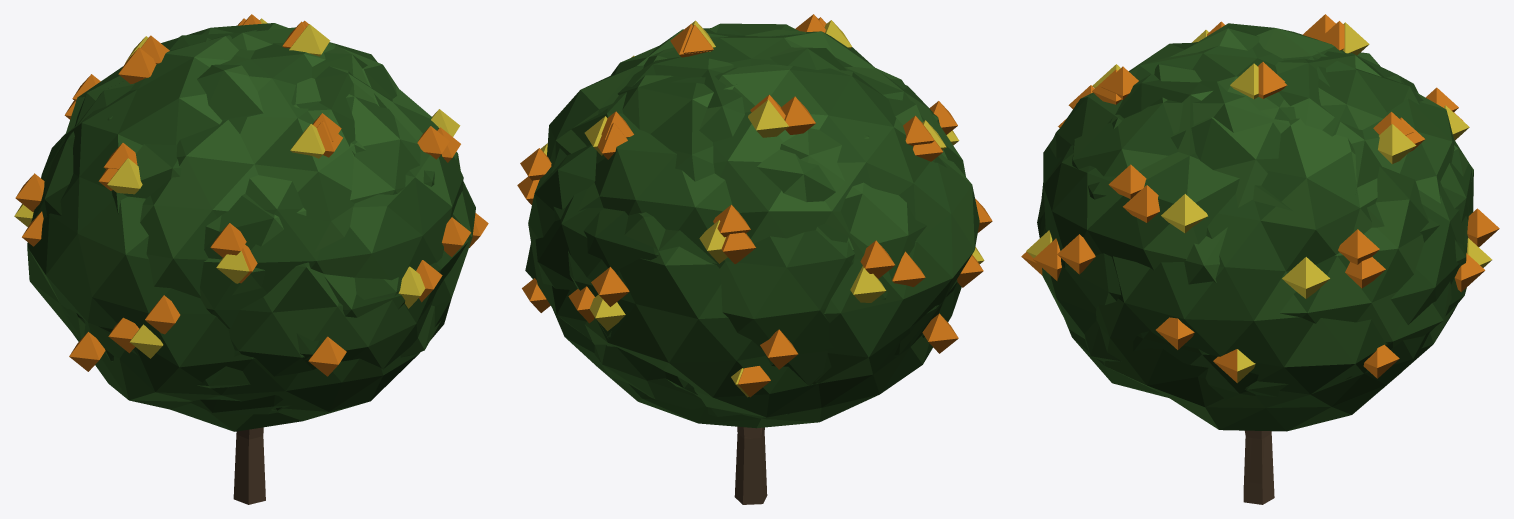
The model's file is citrus.glb.
3 renders of one model, left to right at view 1: azimuth 30°, elevation 25°; view 2: azimuth 150°, elevation 25°; view 3: azimuth 270°, elevation 25°, orthographic.
Visible parts, largest first — view 1: citrus_v0, citrus_v1, citrus_v2; view 2: citrus_v0, citrus_v2, citrus_v1; view 3: citrus_v0, citrus_v1, citrus_v2.
Part boxes in pixels (x1,y1,x2,y2): citrus_v0: (15, 14, 488, 431); citrus_v1: (22, 18, 468, 504); citrus_v2: (14, 18, 463, 439); citrus_v0: (520, 14, 992, 428); citrus_v2: (541, 20, 984, 460); citrus_v1: (517, 17, 983, 504); citrus_v0: (1021, 21, 1499, 431); citrus_v1: (1033, 14, 1485, 504); citrus_v2: (1026, 22, 1492, 483).
Bounding box in the file's own units: 3.29 × 3.6 × 3.37.
